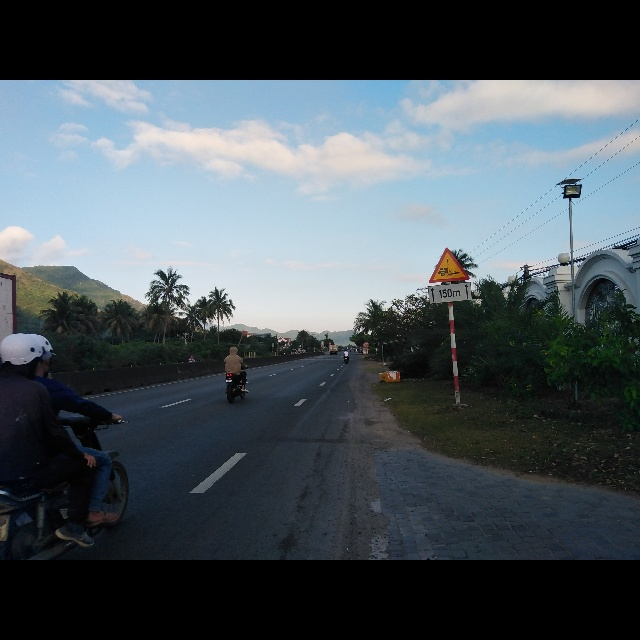Đoạn đường hay xảy ra tai nạn: (427, 244, 469, 284)
